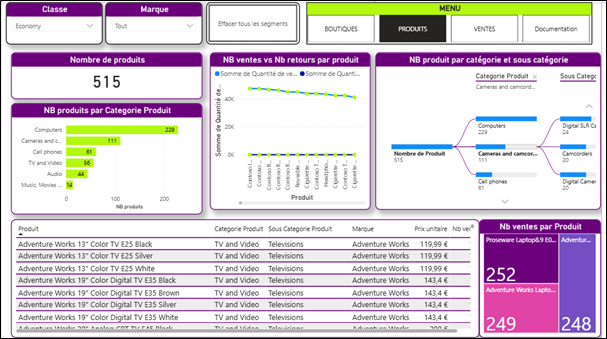

What the dashboard file says about the page in this screenshot:
{"tool":"powerbi","page":{"name":"PRODUITS","canvas":[1280,720],"ordinal":1},"visuals":[{"type":"slicer","title":"Classe","fields":{"Values":["Produits.Class"]},"box":[10,0,206.2,90],"z":0},{"type":"slicer","title":"Marque","fields":{"Values":["Produits.Marque"]},"box":[221.2,0,207.5,90],"z":1000},{"type":"card","title":"Nombre de produits","fields":{"Values":["Produits.NB produits"]},"box":[20.4,107.3,408.9,99.7],"z":2000},{"type":"barChart","fields":{"Category":["Categorie Produits.Categorie Produit"],"Y":["Produits.NB produits"]},"box":[20.4,214.7,408.9,237.7],"z":3000},{"type":"tableEx","fields":{"Values":["Produits.Produit","Categorie Produits.Categorie Produit","Sous Categories Produits.Sous Categorie Produit","Produits.Marque","Produits.Prix unitaire","Sales.Nb ventes"]},"box":[20,462.9,1000,252.9],"z":4000},{"type":"lineChart","title":"NB ventes vs Nb retours par produit","fields":{"Category":["Produits.Produit"],"Y":["Sum(Sales.Quantité de vente)","Sum(Sales.Quantité de retour)"]},"box":[444.3,107.1,342.9,335.7],"z":5000},{"type":"decompositionTreeVisual","title":"NB produit par catégorie et sous catégorie","fields":{"Analyze":["CountNonNull(Produits.Produit)"],"ExplainBy":["Categorie Produits.Categorie Produit","Sous Categories Produits.Sous Categorie Produit"]},"box":[798.6,107.1,481.4,335.7],"z":6000},{"type":"treemap","fields":{"Group":["Produits.Produit"],"Values":["Sales.Nb ventes"]},"box":[1020,462.9,260,252.9],"z":7000},{"type":"actionButton","box":[436.2,0,200,90],"z":8000},{"type":"pageNavigator","title":"MENU","box":[651.1,0,610,90],"z":9000}]}

Visuals, with their boxes in screenshot pixels (x1, y1, x2, y2), scaled from the page's 1280x720 canvas onto the 607x339 screenshot:
"Classe" slicer: Rect(5, 0, 103, 42)
"Marque" slicer: Rect(105, 0, 203, 42)
"Nombre de produits" card: Rect(10, 51, 204, 97)
barChart - Categorie Produits.Categorie Produit x Produits.NB produits: Rect(10, 101, 204, 213)
tableEx - Produits.Produit x Categorie Produits.Categorie Produit: Rect(9, 218, 484, 337)
"NB ventes vs Nb retours par produit" lineChart: Rect(211, 50, 373, 208)
"NB produit par catégorie et sous catégorie" decompositionTreeVisual: Rect(379, 50, 606, 208)
treemap - Produits.Produit x Sales.Nb ventes: Rect(484, 218, 606, 337)
actionButton: Rect(207, 0, 302, 42)
"MENU" pageNavigator: Rect(309, 0, 598, 42)
